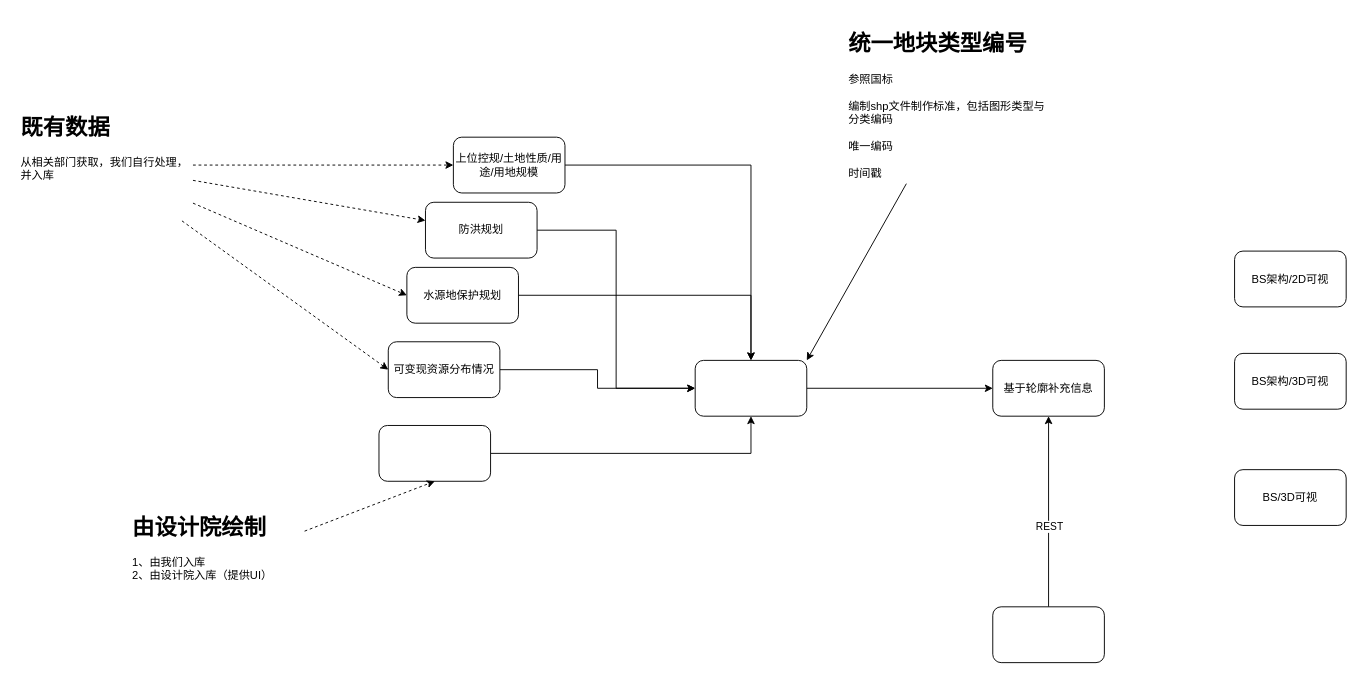
Image size: 1362x679. Some labels were removed from this diagram. The shapes that lost their labels are listed below. From the top down, each one's centre as x and y in pixels, then its label:
At point (750, 387): "基于Shp的数据入库".
At point (434, 453): "规划设计".
At point (1048, 634): "基于权限的统一界面".
